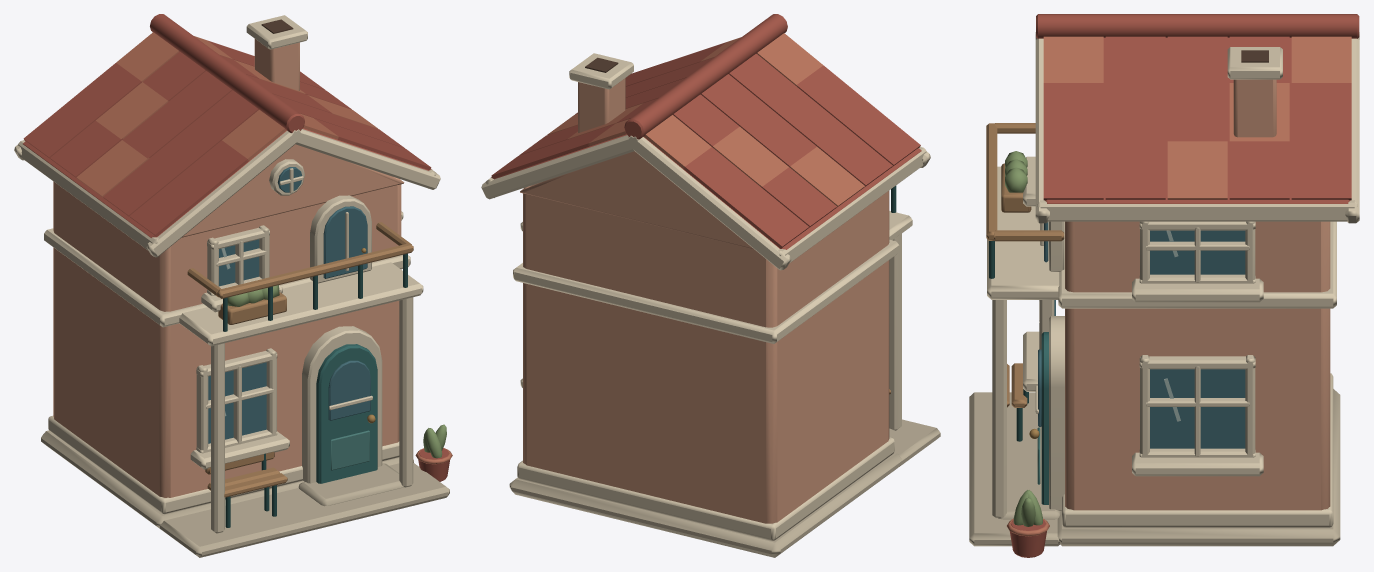
Rendered from house_level_3.glb.
3 views of the same model, side by side, from view 1: azimuth 30°, elevation 25°; view 2: azimuth 150°, elevation 25°; view 3: azimuth 270°, elevation 25° (orthographic). The views are drawn at different scales.
Parts seen in each view (by area): view 1: house_level_3_runtime; view 2: house_level_3_runtime; view 3: house_level_3_runtime.
Boxes of the visible parts, x1=… form: house_level_3_runtime: x1=14, y1=14, x2=452, y2=557; house_level_3_runtime: x1=481, y1=14, x2=940, y2=557; house_level_3_runtime: x1=969, y1=14, x2=1359, y2=557.
Size of the model in its own units: 3.61 by 4.61 by 3.53.
